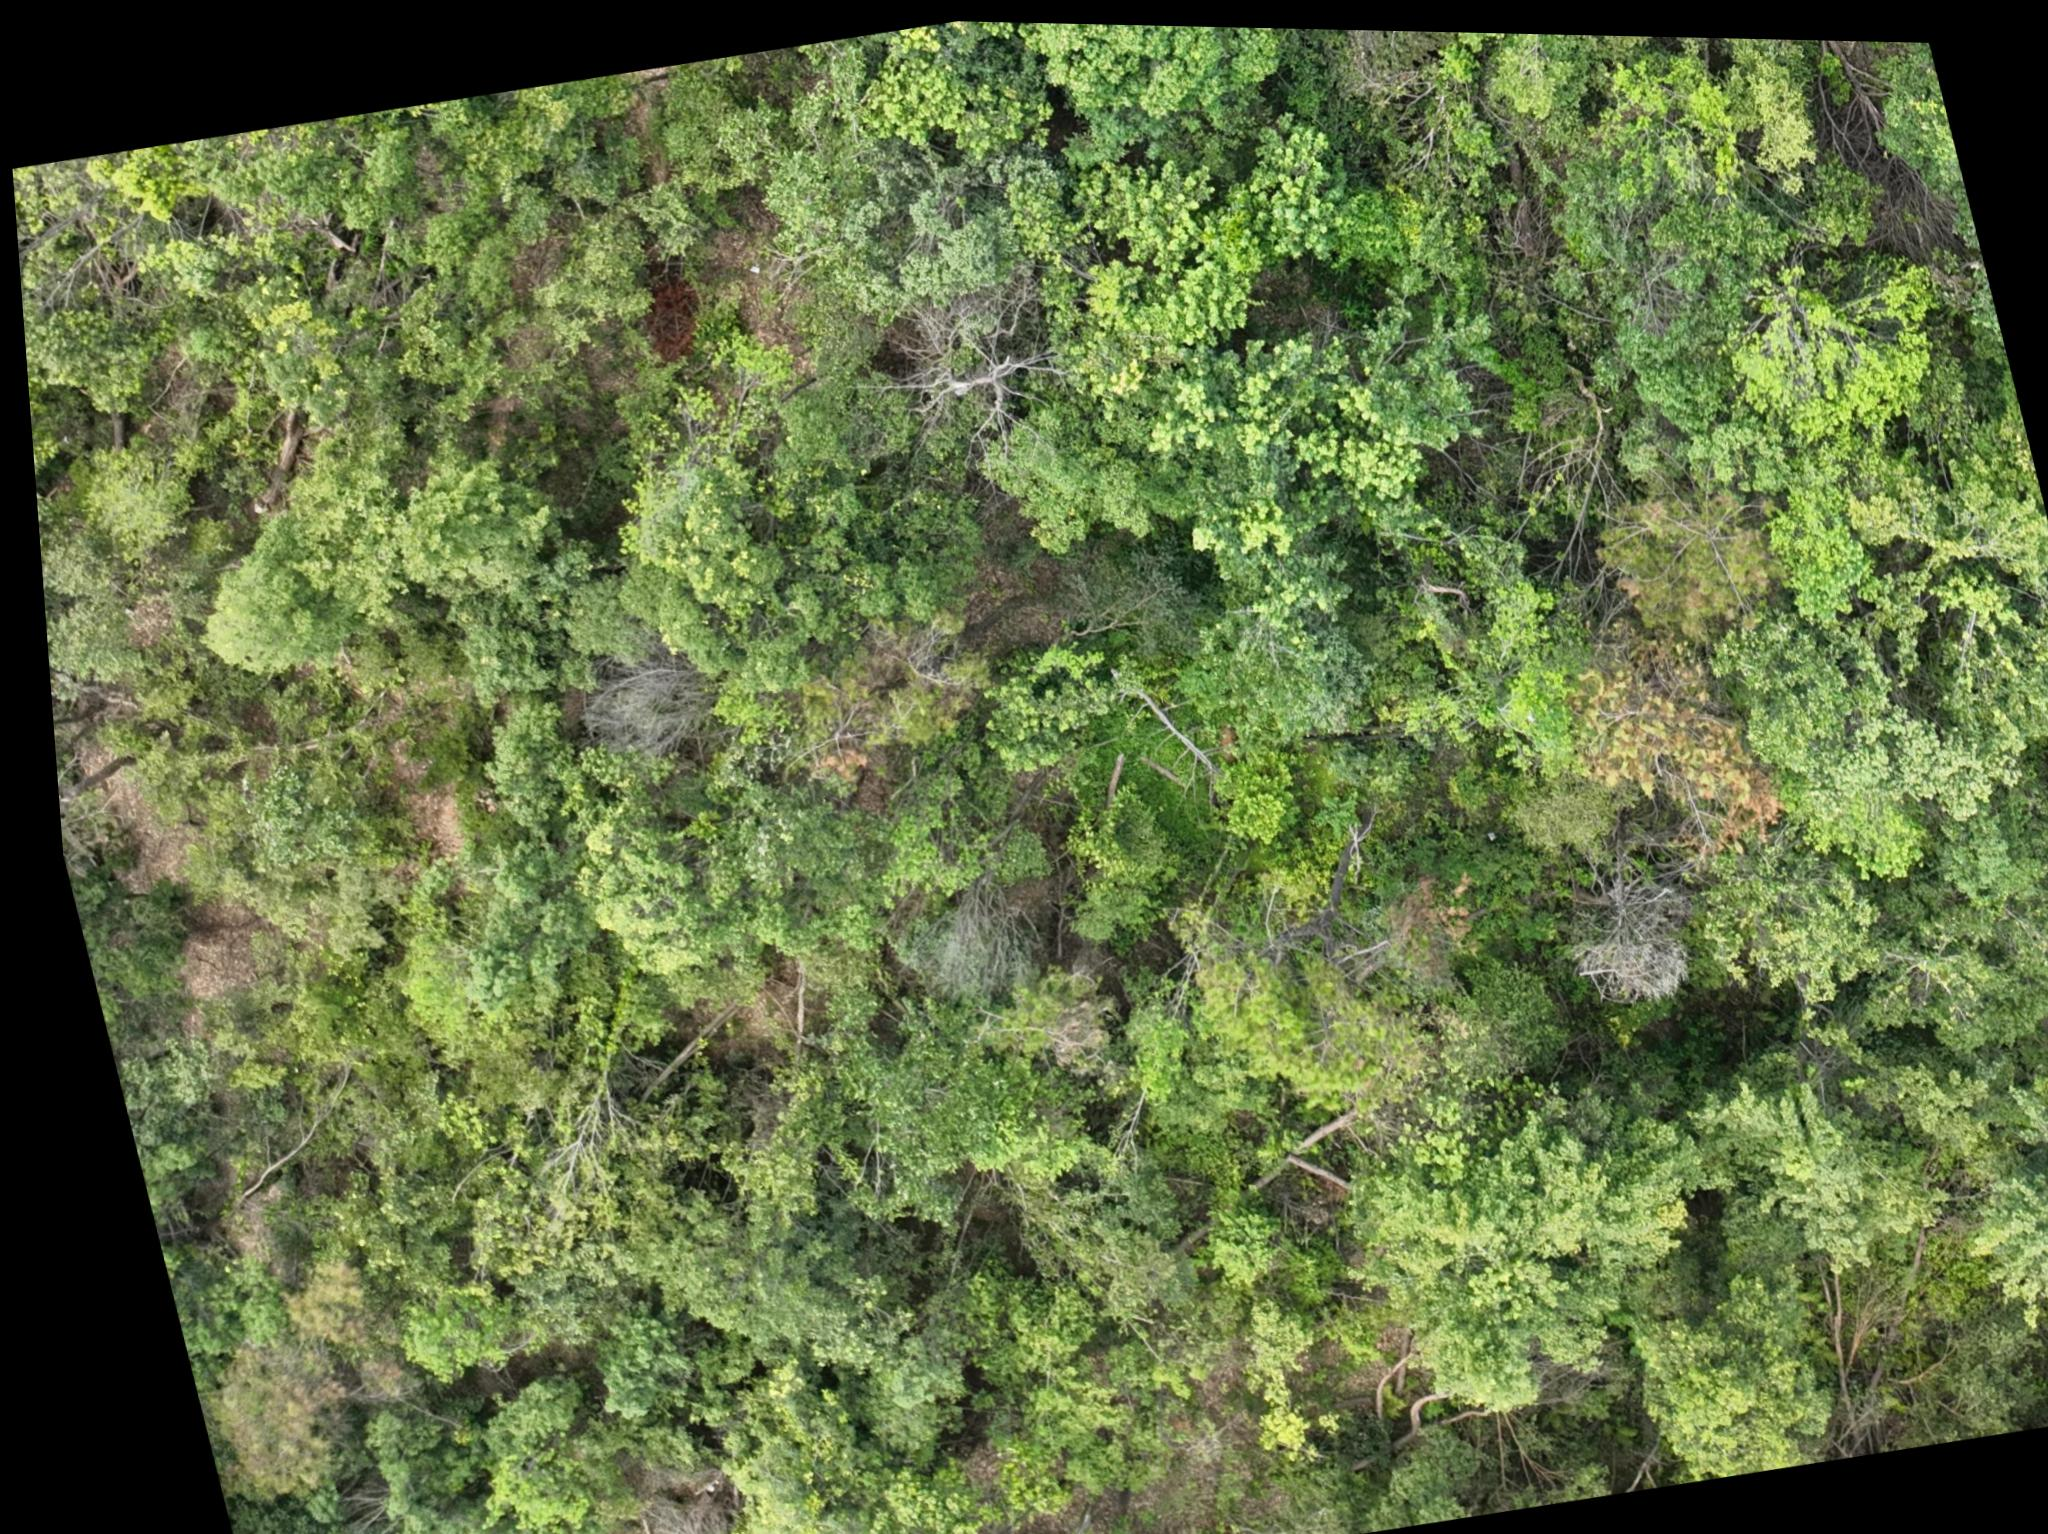dead: (1548, 869, 1694, 1012)
light: (1547, 632, 1776, 870), (1573, 466, 1771, 630)
